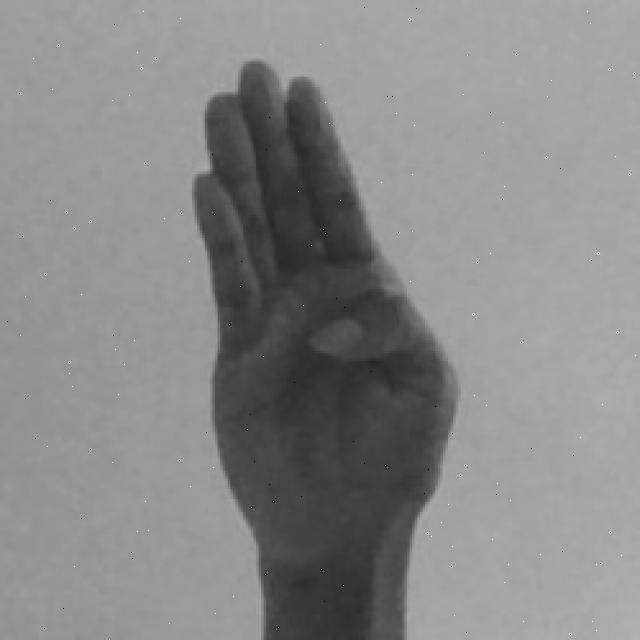B: (188, 56, 464, 638)
